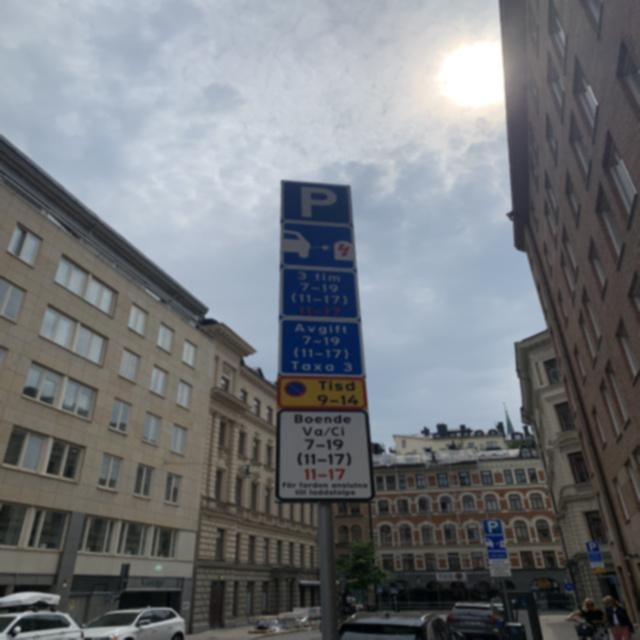P-skylt: (279, 178, 355, 227)
